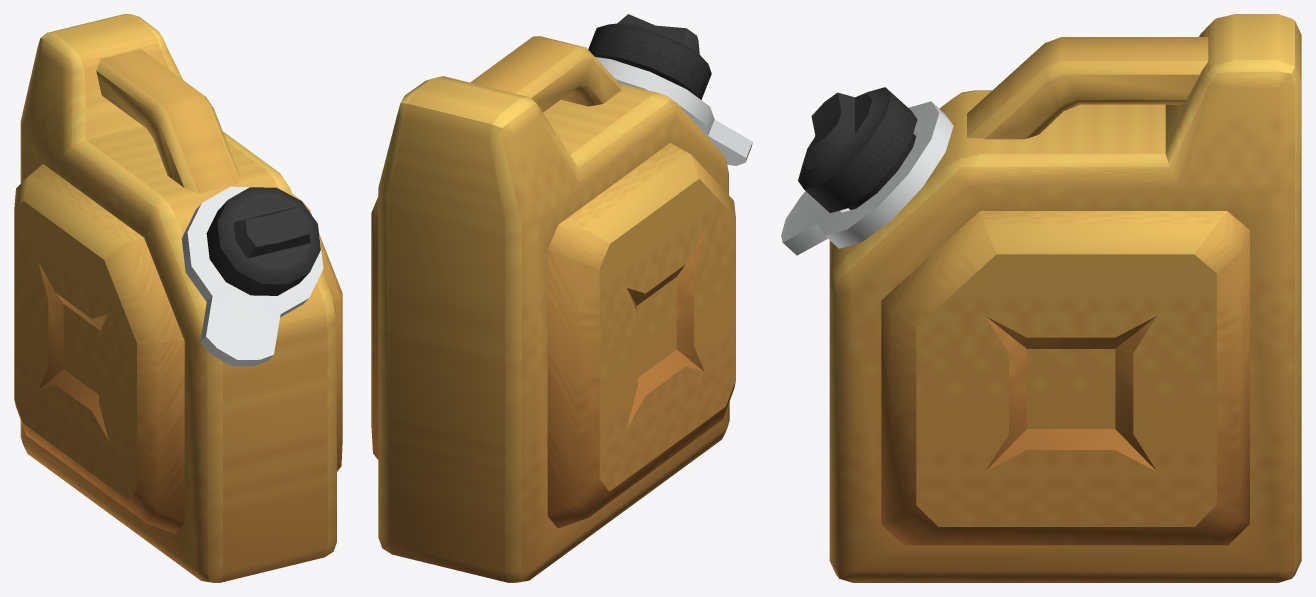
File: Fuel_B_Jerrycan.gltf
The picture shows the model from 3 angles, left to right: view 1: azimuth 30°, elevation 25°; view 2: azimuth 150°, elevation 25°; view 3: azimuth 270°, elevation 25°; orthographic projection. The views are drawn at different scales.
Parts seen in each view (by area): view 1: Fuel_B_Jerrycan; view 2: Fuel_B_Jerrycan; view 3: Fuel_B_Jerrycan.
Boxes of the visible parts, x1,y1,x2,y2 form: Fuel_B_Jerrycan: [14, 14, 342, 582]; Fuel_B_Jerrycan: [371, 14, 752, 582]; Fuel_B_Jerrycan: [781, 14, 1301, 582].
Bounding box in the file's own units: 0.4 × 0.78 × 0.7165.
Materials: 1 (1 with a texture image).
